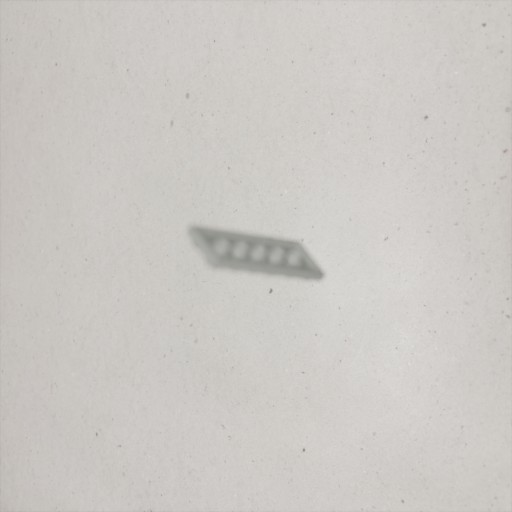lego: (185, 224, 327, 283)
